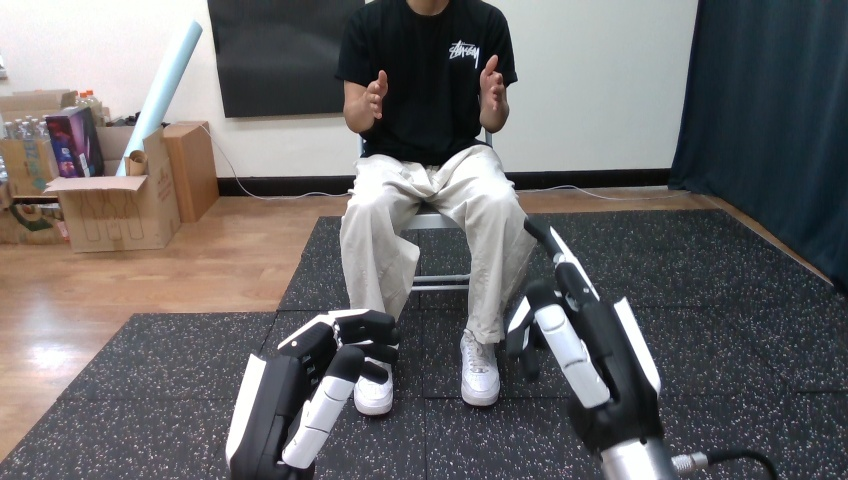left robot hand: (226, 309, 399, 479)
